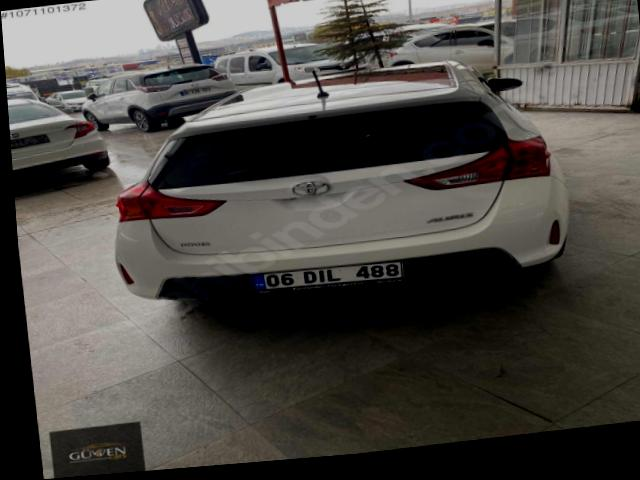plaka: (250, 261, 407, 295)
